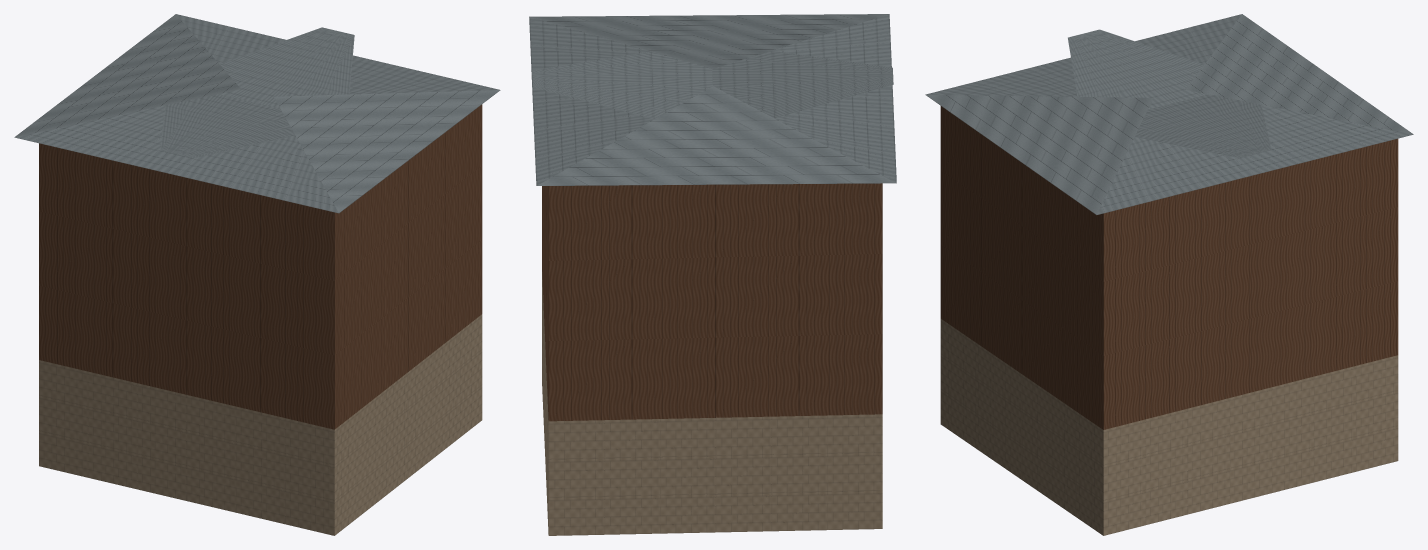
File: bld_c29_36_329.gltf
3 views of the same model, side by side, from view 1: azimuth 30°, elevation 25°; view 2: azimuth 150°, elevation 25°; view 3: azimuth 270°, elevation 25° (orthographic). The views are drawn at different scales.
Parts seen in each view (by area): view 1: bld_c29_36_329; view 2: bld_c29_36_329; view 3: bld_c29_36_329.
Boxes of the visible parts, <box> form: bld_c29_36_329: <box>14,14,500,535</box>; bld_c29_36_329: <box>529,14,896,535</box>; bld_c29_36_329: <box>925,14,1413,535</box>.
Size of the model in its own units: 20.78 by 16.8 by 21.34.
3 materials, 3 textured.
